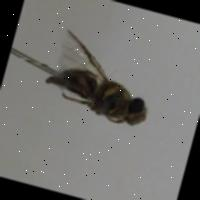Oriental-fruit-fly: (26, 23, 172, 138)
